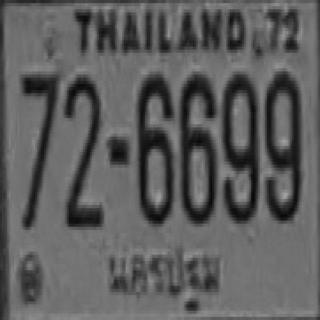N02: (63, 73, 100, 225)
N06: (136, 71, 171, 221), (179, 71, 214, 221)
N07: (20, 72, 58, 227)
N09: (220, 71, 257, 221), (264, 68, 300, 218)
P28: (101, 238, 226, 312)
